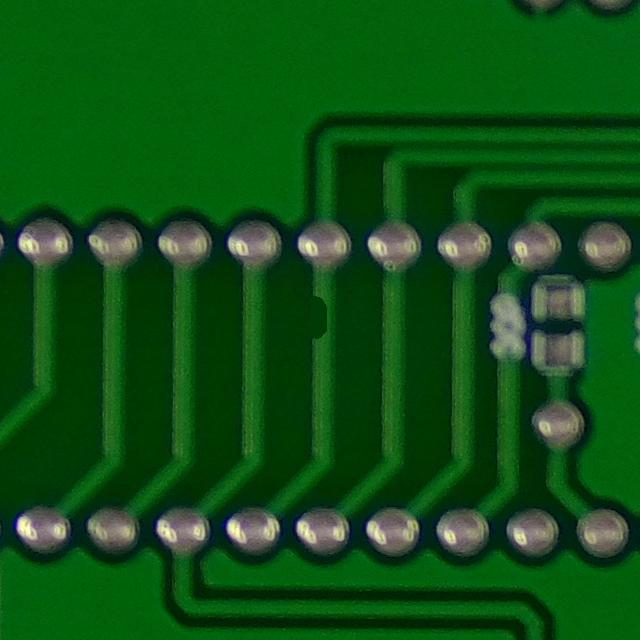mouse_bite: (297, 287, 343, 353)
